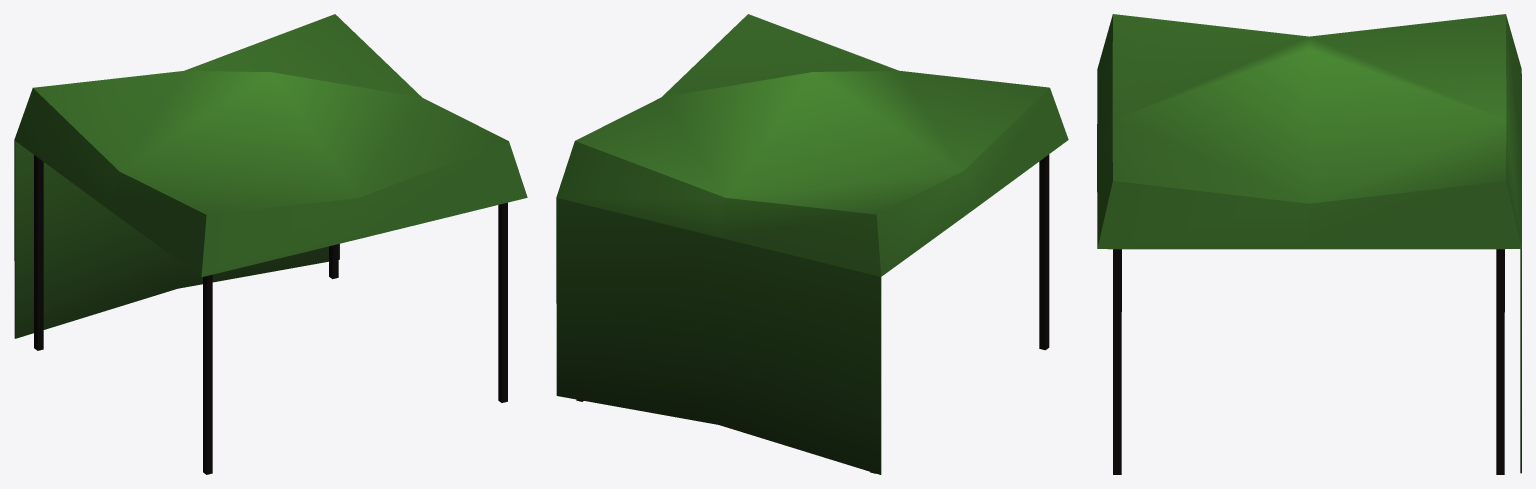
Rendered from Foodtent1.FBX.
3 renders of one model, left to right at view 1: azimuth 30°, elevation 25°; view 2: azimuth 150°, elevation 25°; view 3: azimuth 270°, elevation 25°, orthographic. The views are drawn at different scales.
Parts seen in each view (by area): view 1: FoodTent1; view 2: FoodTent1; view 3: FoodTent1.
Boxes of the visible parts, x1=… form: FoodTent1: x1=14, y1=14, x2=527, y2=474; FoodTent1: x1=556, y1=14, x2=1068, y2=474; FoodTent1: x1=1097, y1=14, x2=1521, y2=474.
Bounding box in the file's own units: 21.64 × 19.15 × 21.54.
